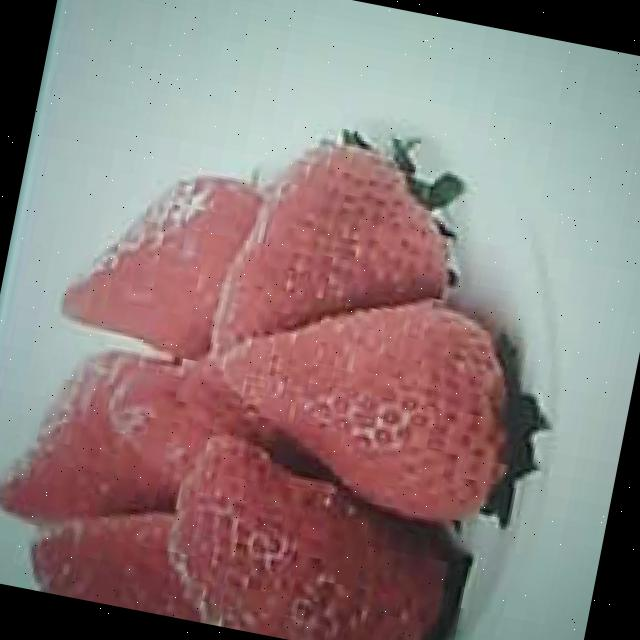strawberry: (203, 269, 527, 529), (210, 119, 470, 388)
